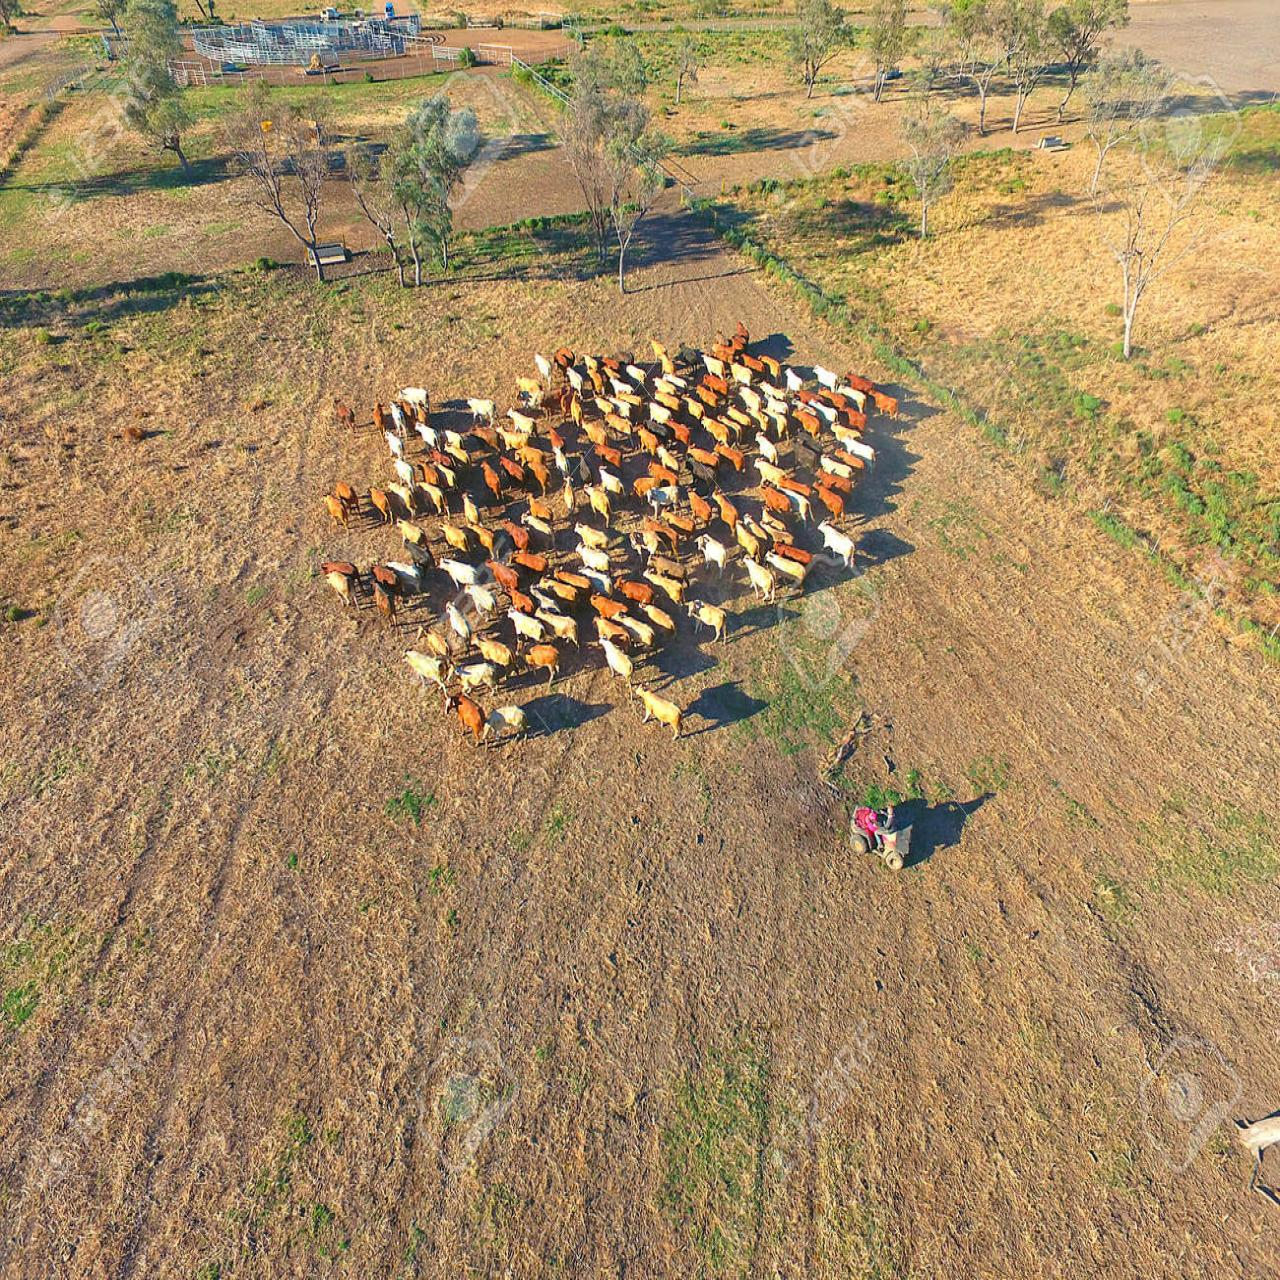cow: (635, 681, 690, 748), (443, 689, 486, 749), (686, 598, 730, 652), (404, 648, 445, 704), (518, 646, 570, 689), (479, 704, 532, 747), (437, 598, 477, 652), (821, 522, 862, 572), (599, 632, 633, 686), (506, 601, 544, 649), (742, 557, 777, 606), (372, 584, 404, 635), (543, 618, 583, 659), (435, 554, 475, 593), (326, 572, 361, 615), (464, 387, 498, 430), (319, 495, 353, 536), (713, 489, 741, 538), (585, 485, 617, 529), (463, 585, 498, 624), (332, 400, 362, 438), (367, 485, 396, 525), (438, 519, 471, 554), (485, 557, 518, 588), (598, 441, 625, 476), (811, 363, 832, 394)
